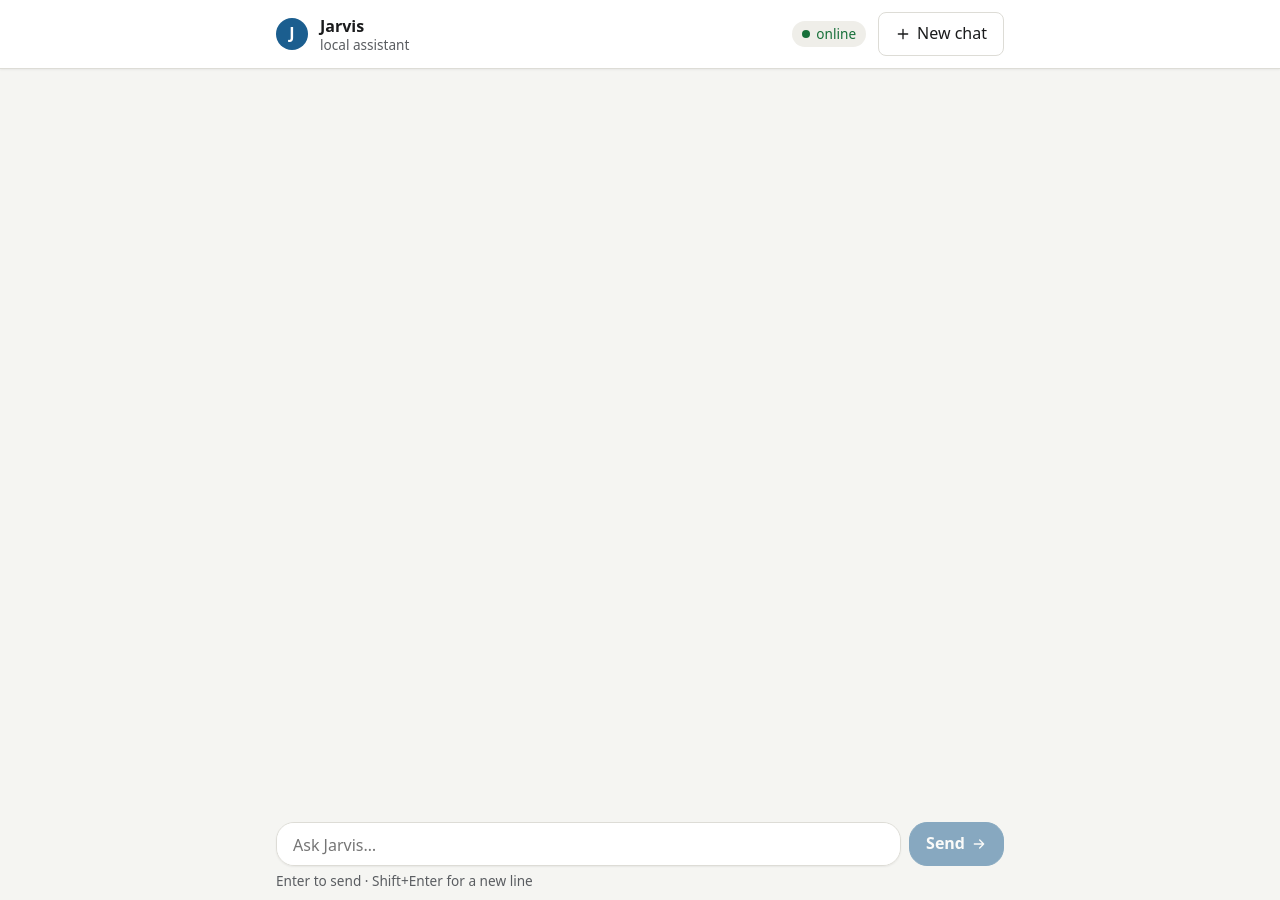
Test: Undo after a direct save › shows a real Undo button, calls /forget only on click, then shows the answer instead
Type "remember that I like tea" into the text box named "Message to Jarvis" at x=589, y=844, box [276,822,901,866]
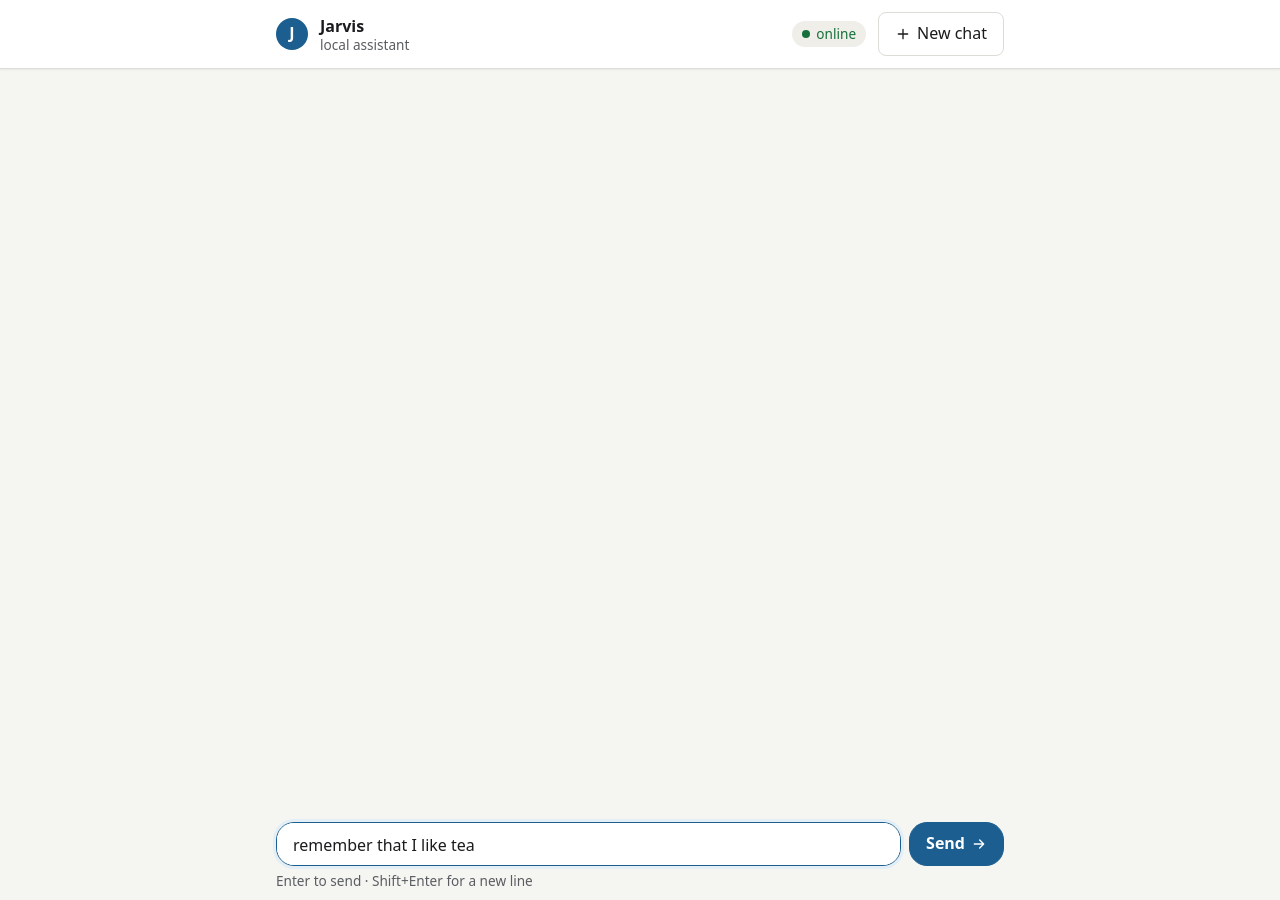
Click the button "Send" at x=957, y=844, box [909,822,1004,866]
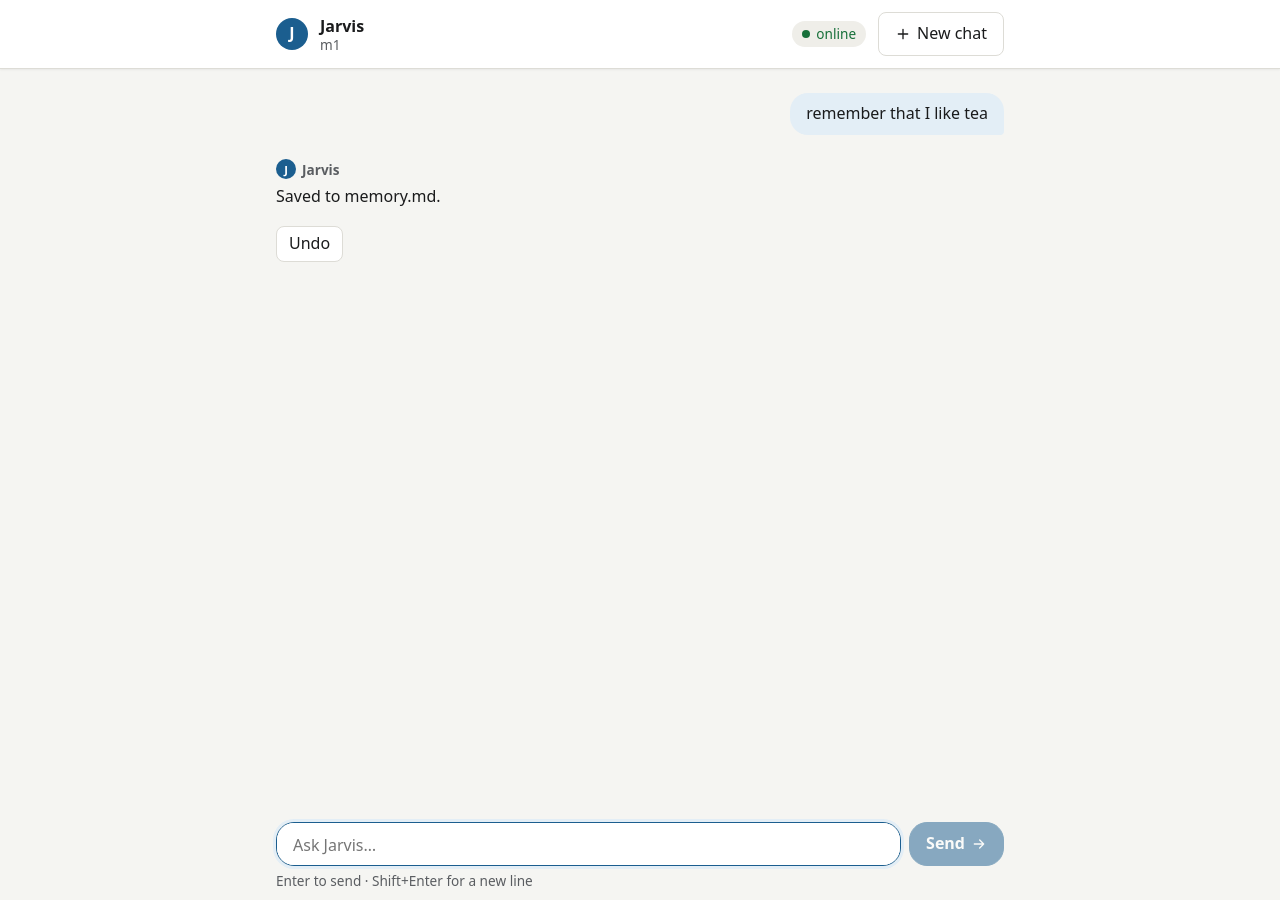
Click the button "Undo" at x=310, y=244, box [276,226,343,262]
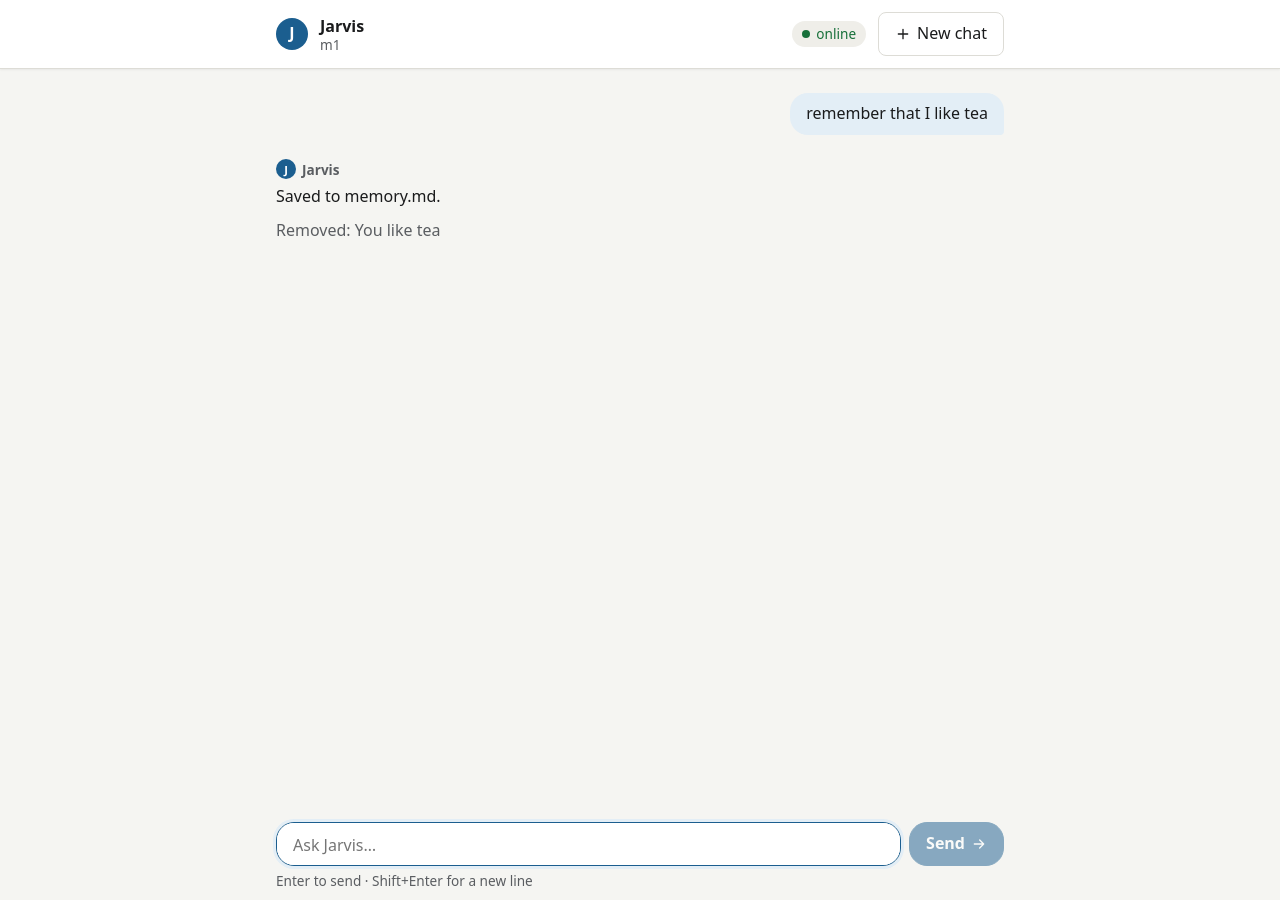
Check: the text "Removed: You like tea" is shown, box [276,219,440,241]
Check: the button "Undo" is gone
